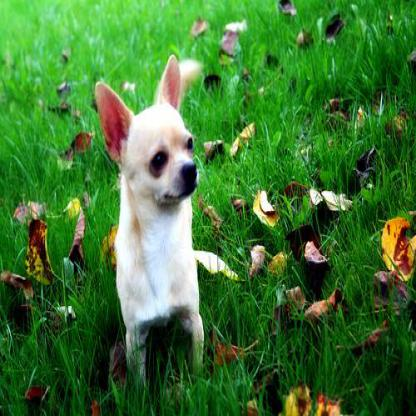dog: (90, 57, 216, 371)
